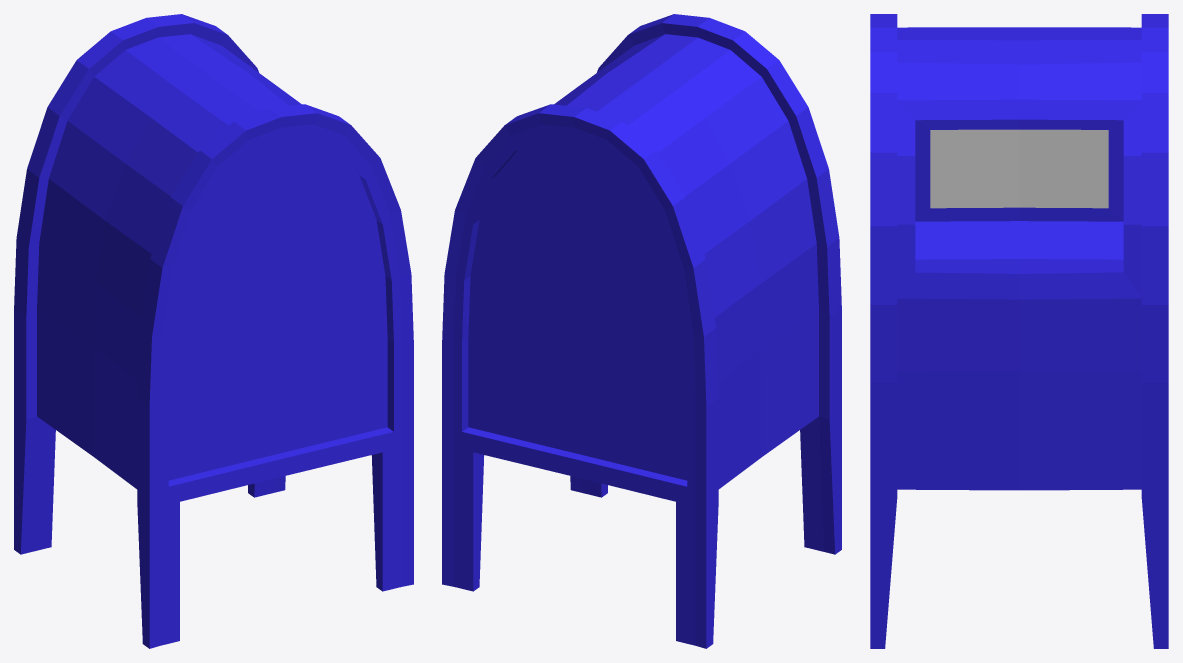
File: Mailbox_01.fbx
3 views of the same model, side by side, from view 1: azimuth 30°, elevation 25°; view 2: azimuth 150°, elevation 25°; view 3: azimuth 270°, elevation 25° (orthographic). The views are drawn at different scales.
Visible parts, largest first — view 1: Mailbox; view 2: Mailbox; view 3: Mailbox.
Boxes of the visible parts, x1=… form: Mailbox: x1=14, y1=14, x2=413, y2=648; Mailbox: x1=442, y1=14, x2=841, y2=648; Mailbox: x1=870, y1=14, x2=1168, y2=648.
Bounding box in the file's own units: 123 × 223 × 109.
